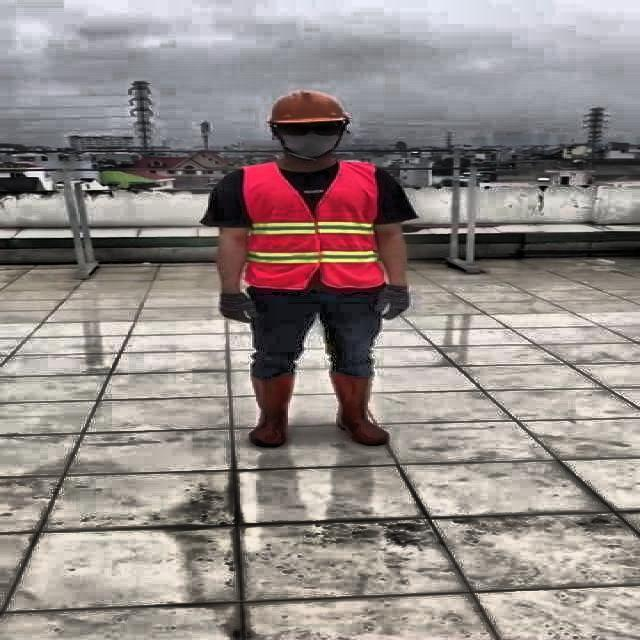safety_helmet: (264, 90, 350, 126)
safety_jacket: (240, 162, 390, 290)
